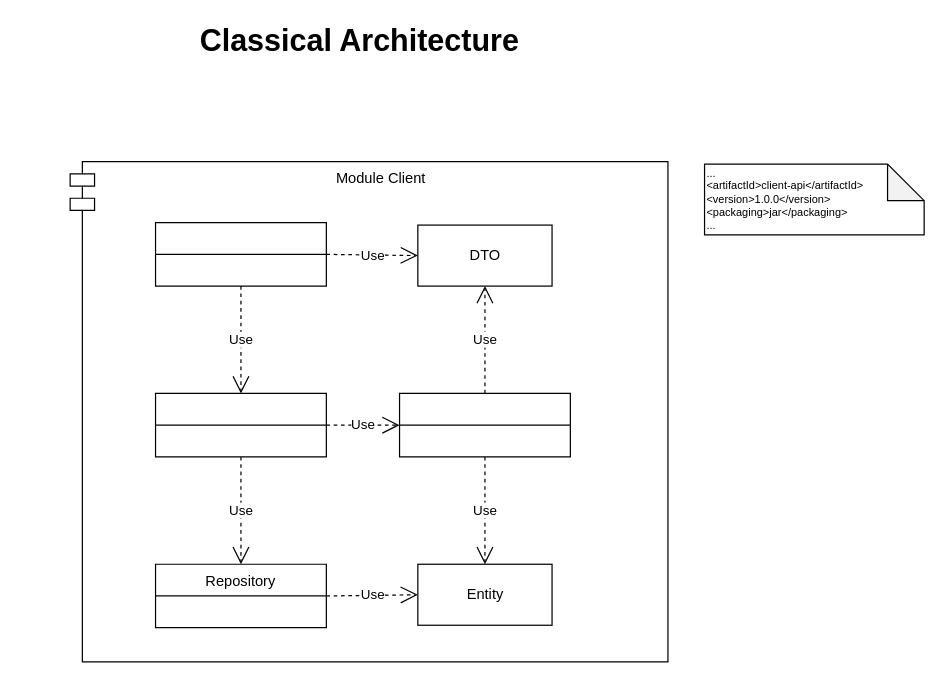
Image size: 946x683. Some labels were removed from this diagram. The centre of each missing label's shape, as x and y in pixels:
"Controller" belongs at [240,253].
"Converter" belongs at [484,424].
"Service" belongs at [240,424].
